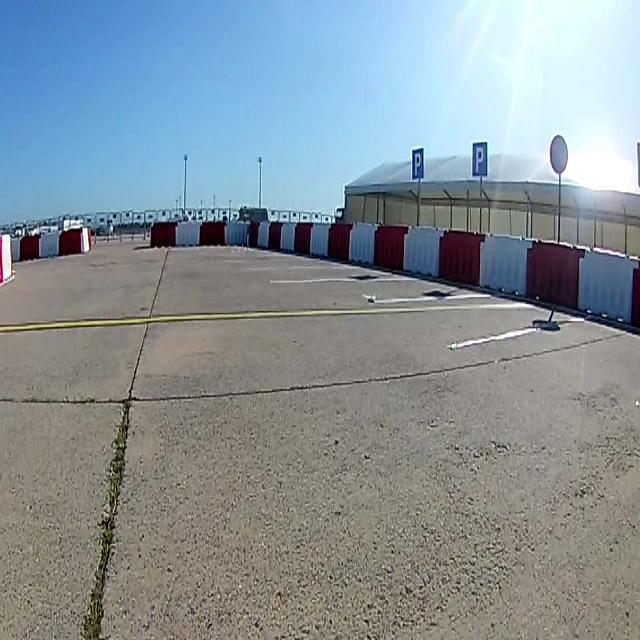park: (472, 142, 486, 177), (412, 146, 425, 178)
